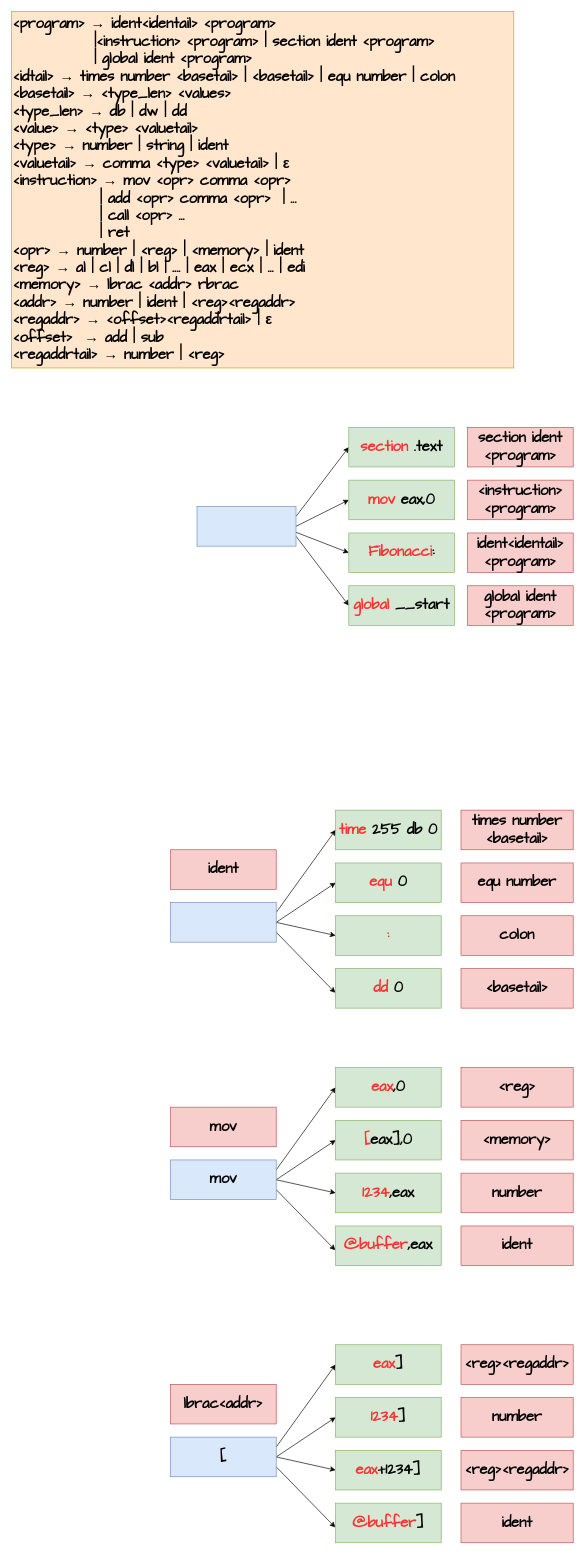
The diagram is 585 pixels wide and 1554 high, and some of its shapes have lost their labels. Here are the shapes that lost their labels. From the top down, the centre of each, then its label:
At (x=246, y=526): "文法开始S".
At (x=223, y=922): "@buffer".
